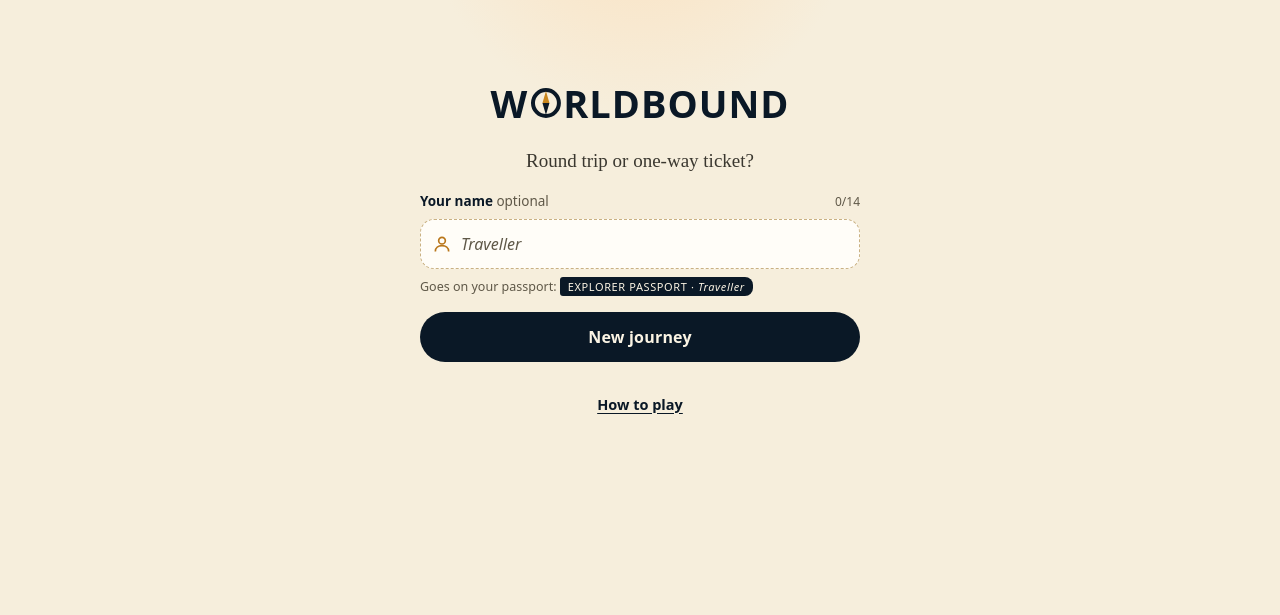
Test: Story 1.6 AC3 / UX-DR2 closing the route sheet › Esc closes and focus returns to the chip that opened it
Click the button "New journey" at coordinates (640, 337), box [420,312,860,362]
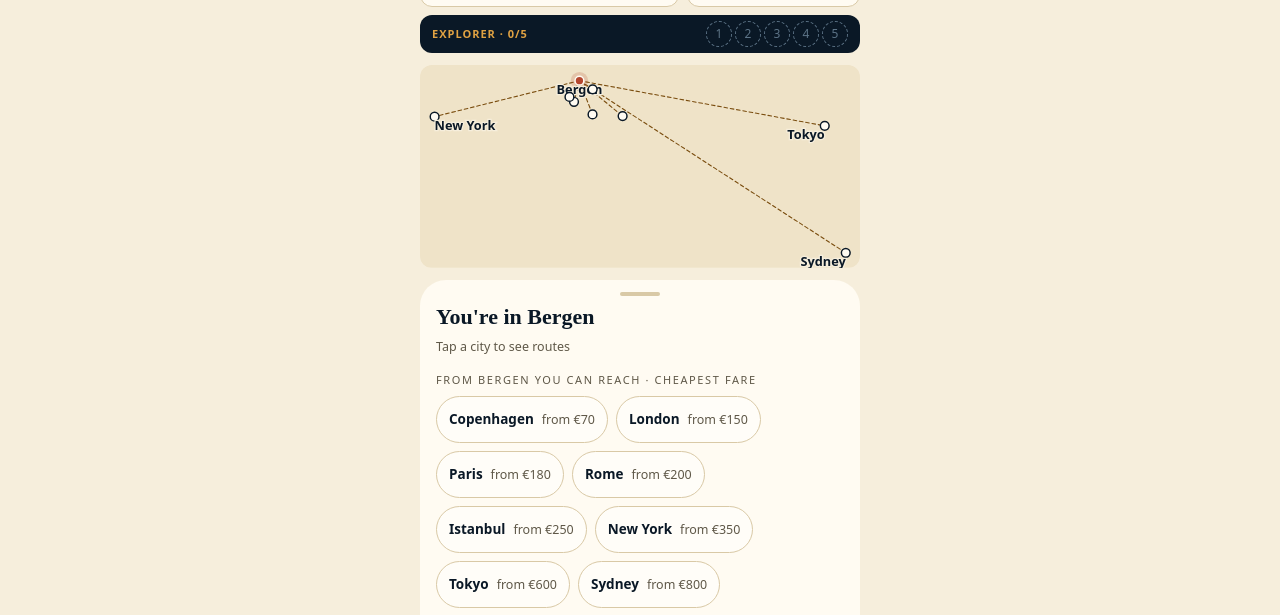
Click the button "Copenhagen from €70" at coordinates (522, 420), box [436,396,608,443]
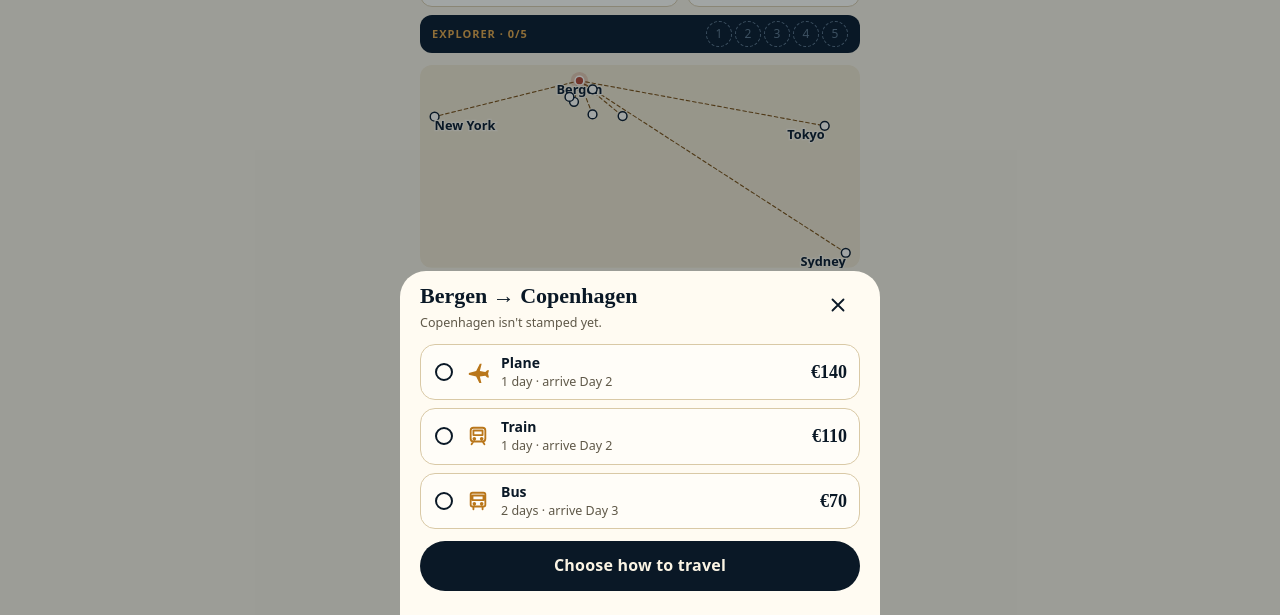
Press Escape in the dialog, box [400,271,880,614]
(page scrolled)
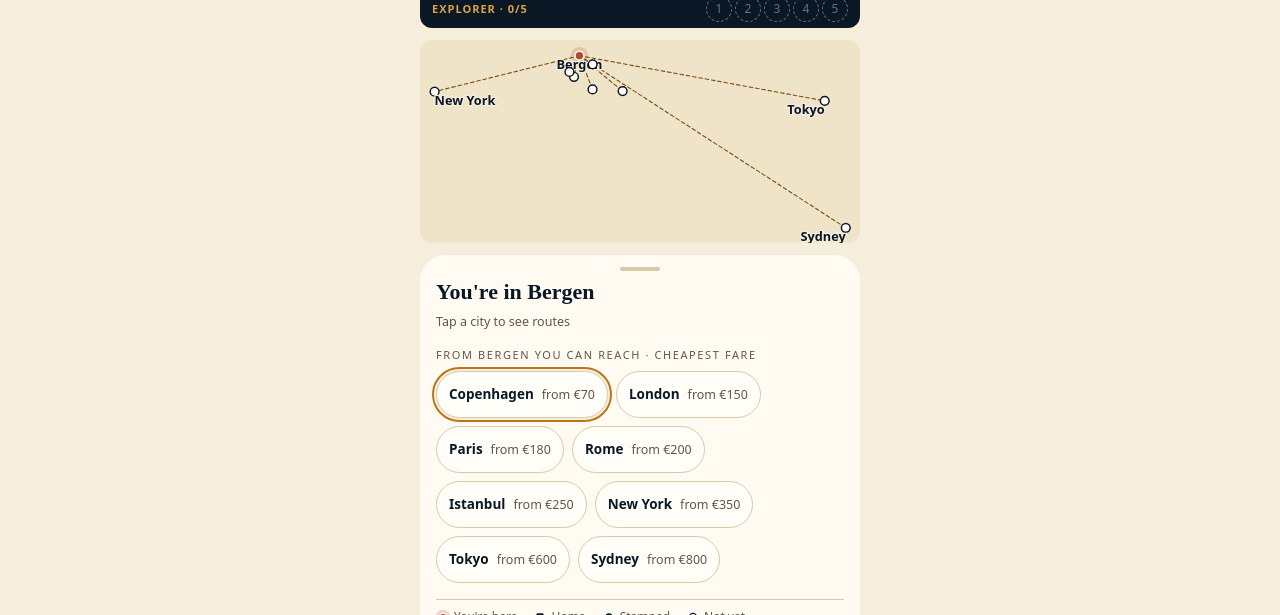
expect the dialog is gone: met
